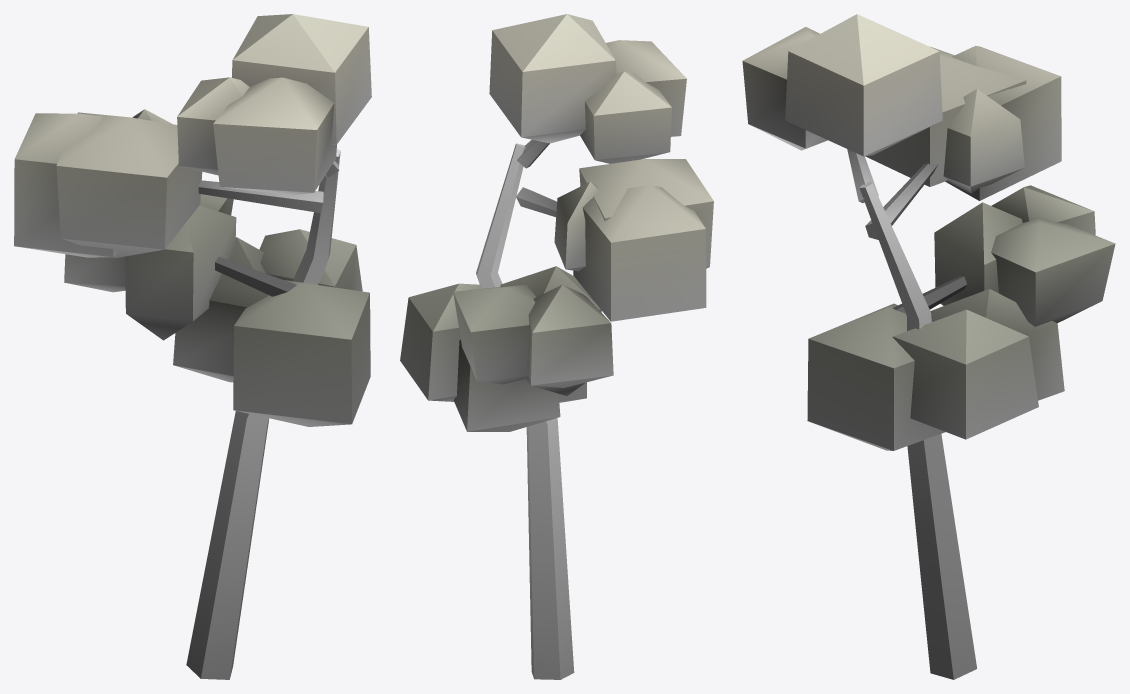
Rendered from beech_c.glb.
The picture shows the model from 3 angles, left to right: view 1: azimuth 30°, elevation 25°; view 2: azimuth 150°, elevation 25°; view 3: azimuth 270°, elevation 25°; orthographic projection. The views are drawn at different scales.
Visible parts, largest first — view 1: Crown.002, Trunk.002; view 2: Crown.002, Trunk.002; view 3: Crown.002, Trunk.002.
Part boxes in pixels (x1,y1,x2,y2): Crown.002: (14, 14, 371, 426); Trunk.002: (186, 149, 340, 679); Crown.002: (400, 14, 713, 431); Trunk.002: (476, 143, 574, 679); Crown.002: (742, 14, 1115, 450); Trunk.002: (859, 181, 977, 679).
Size of the model in its own units: 7.51 by 14.3 by 7.2.
